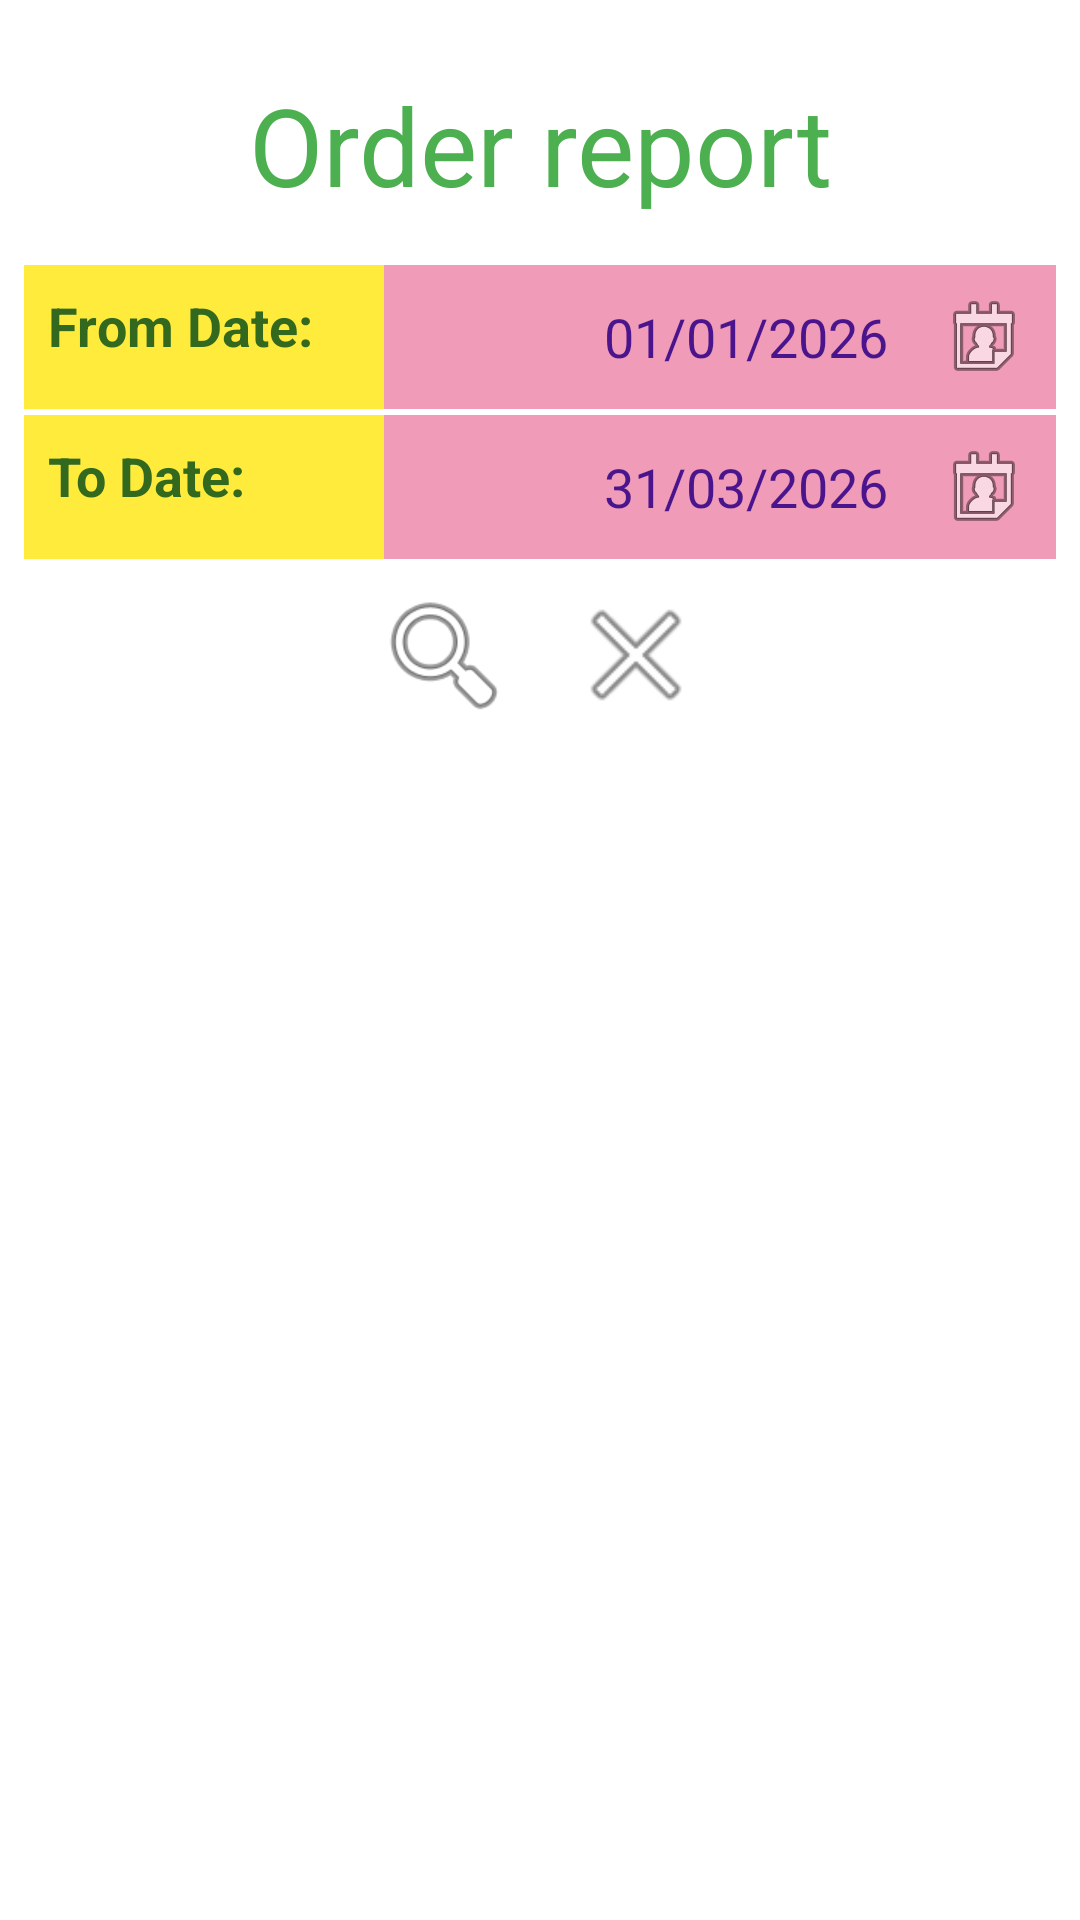

Named icons in this screenshot (1080 x 1920) and their centers, (x=x, y=y):
Clear Filter: (x=636, y=655)
Filter: (x=444, y=655)
